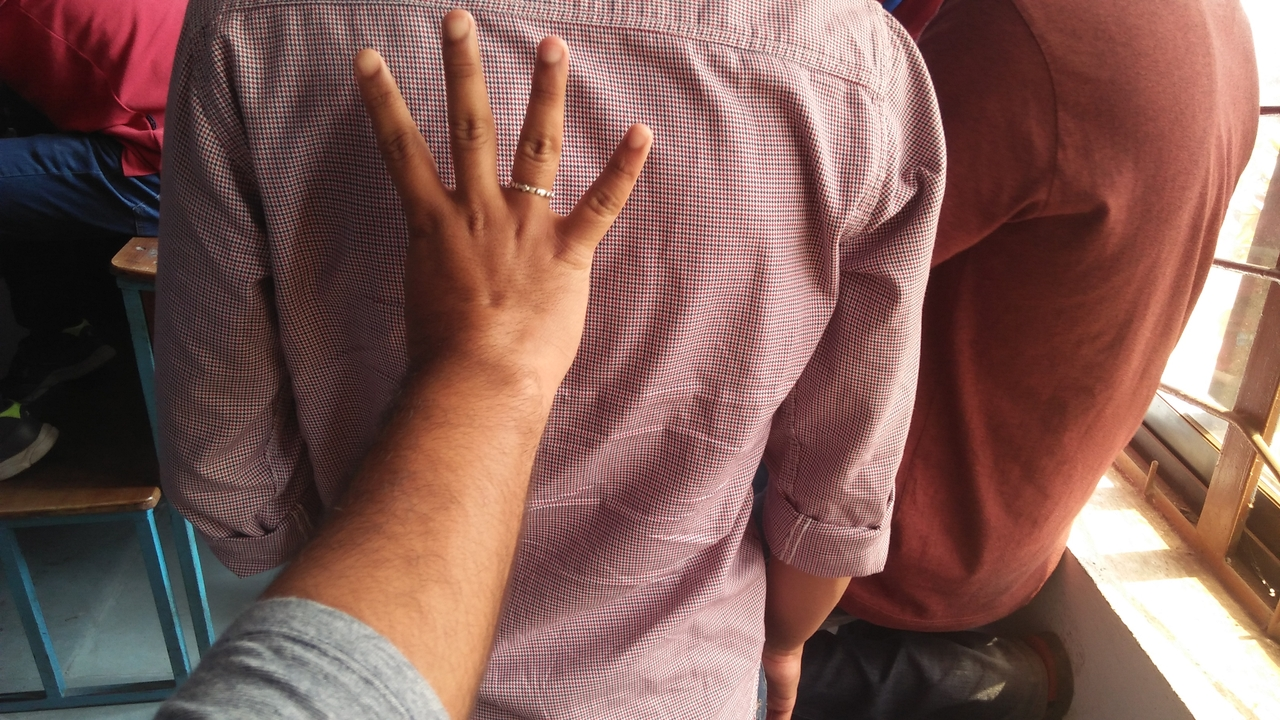fingertip: (606, 112, 660, 160), (344, 42, 394, 84), (434, 0, 478, 46), (528, 30, 574, 68)
